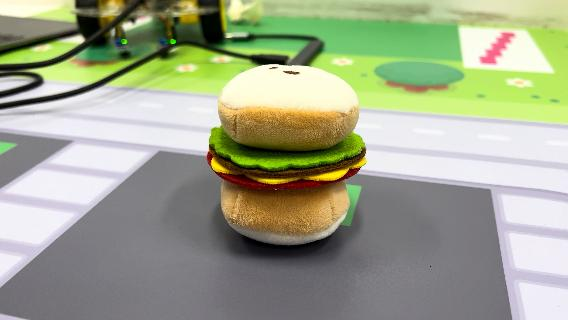sandwich: (205, 61, 369, 247)
